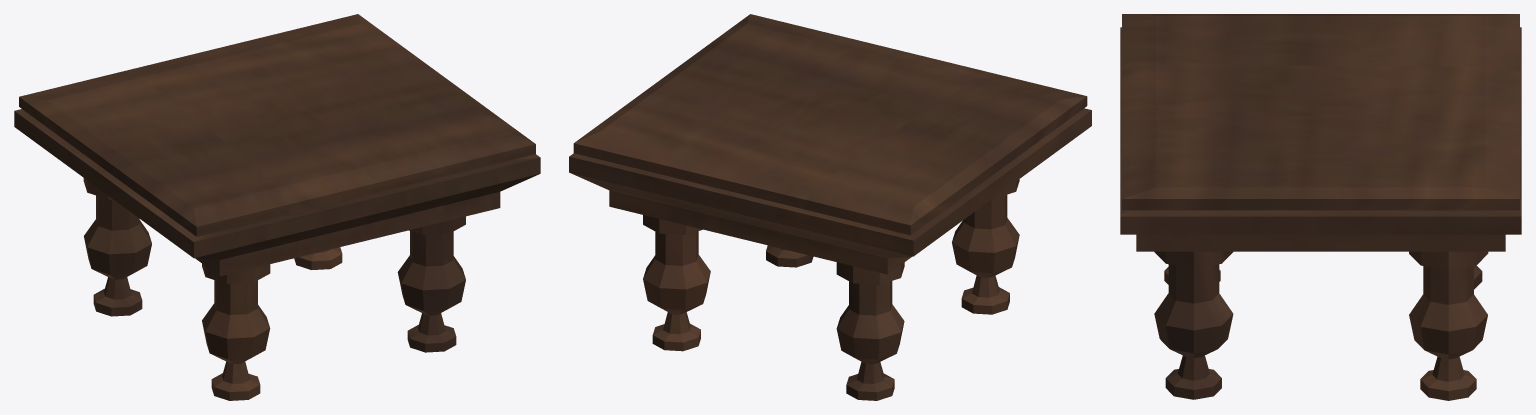
Rendered from Stool.fbx.
3 renders of one model, left to right at view 1: azimuth 30°, elevation 25°; view 2: azimuth 150°, elevation 25°; view 3: azimuth 270°, elevation 25°, orthographic. The views are drawn at different scales.
Parts seen in each view (by area): view 1: Cube.045; view 2: Cube.045; view 3: Cube.045.
Part boxes in pixels (box(x1,y1,x2,y2)): Cube.045: box(14, 14, 540, 400); Cube.045: box(569, 14, 1091, 400); Cube.045: box(1120, 14, 1521, 400).
Bounding box in the file's own units: 85.76 × 49.48 × 76.9.
1 material, 1 textured.
